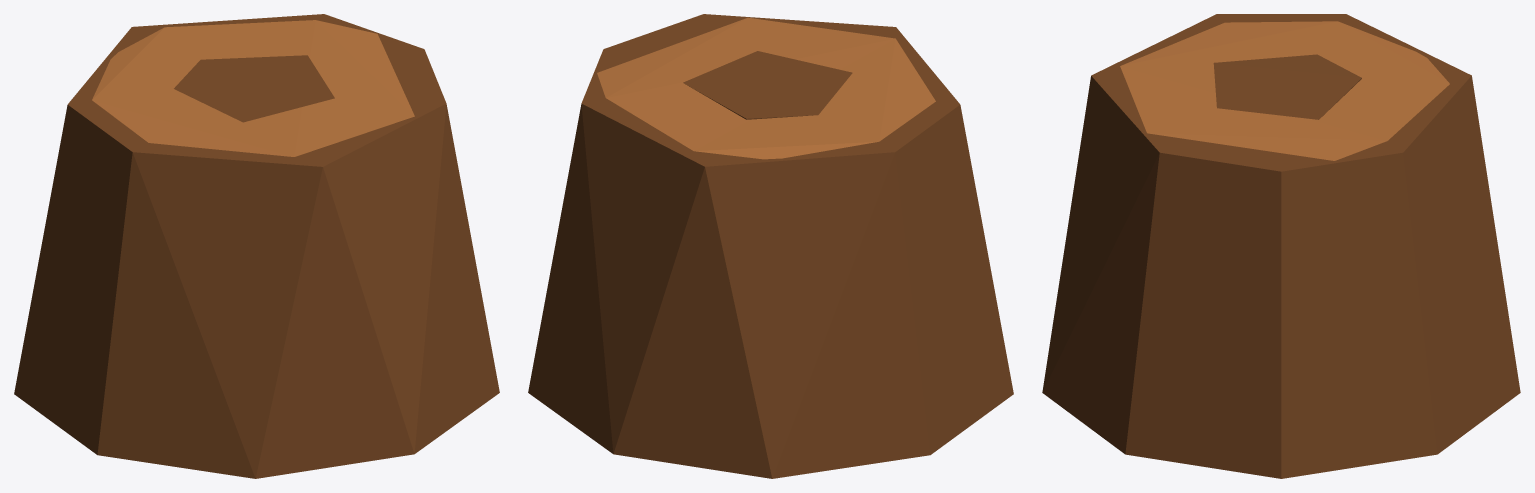
The model's file is tree_stump_a.fbx.
The picture shows the model from 3 angles, left to right: view 1: azimuth 30°, elevation 25°; view 2: azimuth 150°, elevation 25°; view 3: azimuth 270°, elevation 25°; orthographic projection.
Parts seen in each view (by area): view 1: tree_stump_a; view 2: tree_stump_a; view 3: tree_stump_a.
Part boxes in pixels (x1,y1,x2,y2): tree_stump_a: (14,14,499,478); tree_stump_a: (528,14,1013,478); tree_stump_a: (1042,14,1520,478).
Size of the model in its own units: 0.9 by 0.6 by 0.9.
